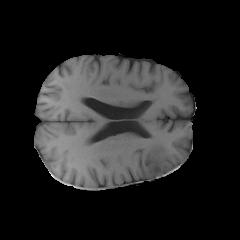glioma: (126, 126, 183, 177)
